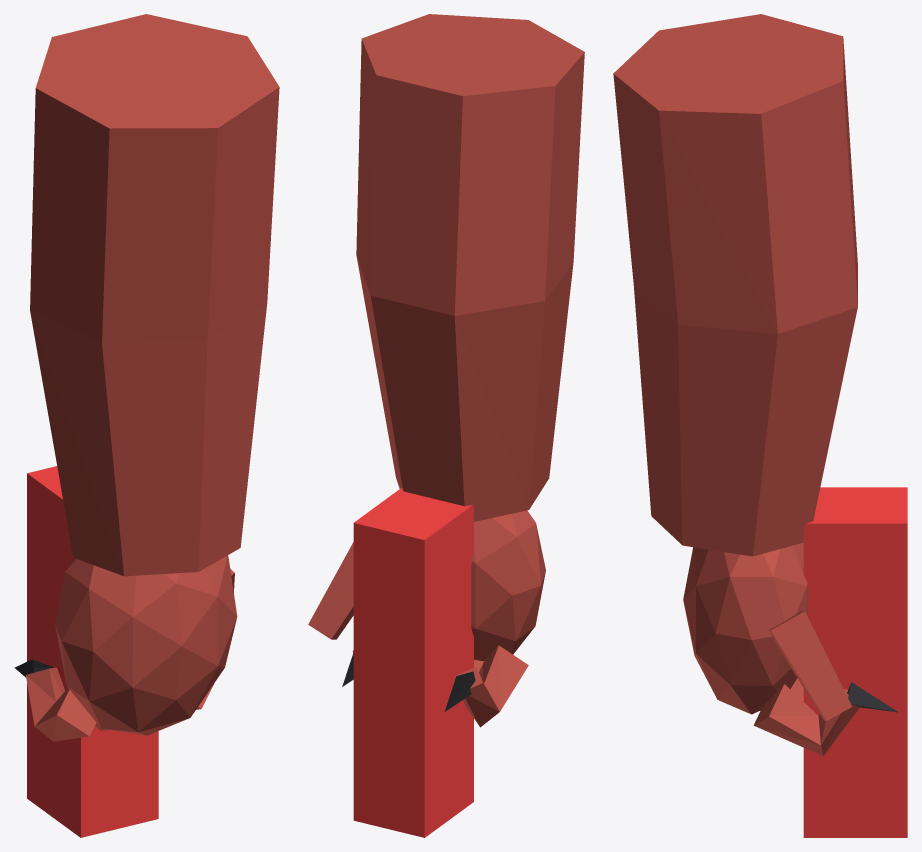
Rendered from SatanForearmPhone.obj.
The picture shows the model from 3 angles, left to right: view 1: azimuth 30°, elevation 25°; view 2: azimuth 150°, elevation 25°; view 3: azimuth 270°, elevation 25°; orthographic projection. The views are drawn at different scales.
Parts seen in each view (by area): view 1: SatanForearmPhone; view 2: SatanForearmPhone; view 3: SatanForearmPhone.
Boxes of the visible parts, box(x1,y1,x2,y2) form: SatanForearmPhone: box(14, 14, 279, 837); SatanForearmPhone: box(308, 14, 584, 837); SatanForearmPhone: box(613, 14, 907, 837).
Size of the model in its own units: 0.1482 by 0.4845 by 0.1698.
1 material, 1 textured.
